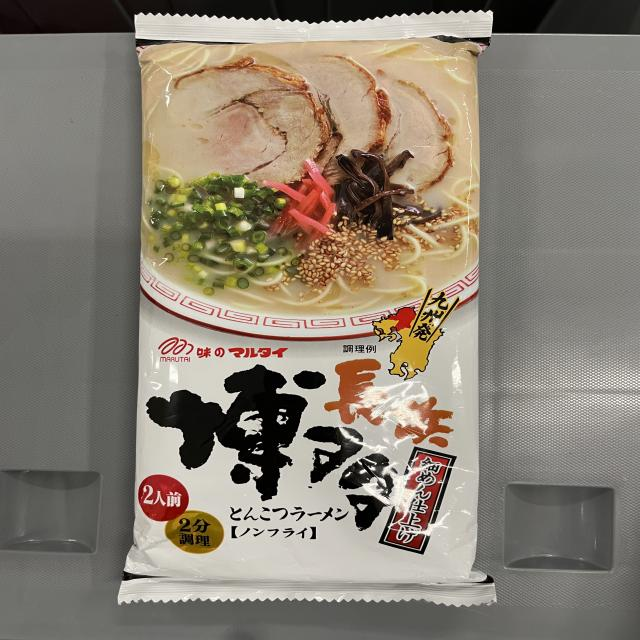object_name: (137, 19, 475, 593)
